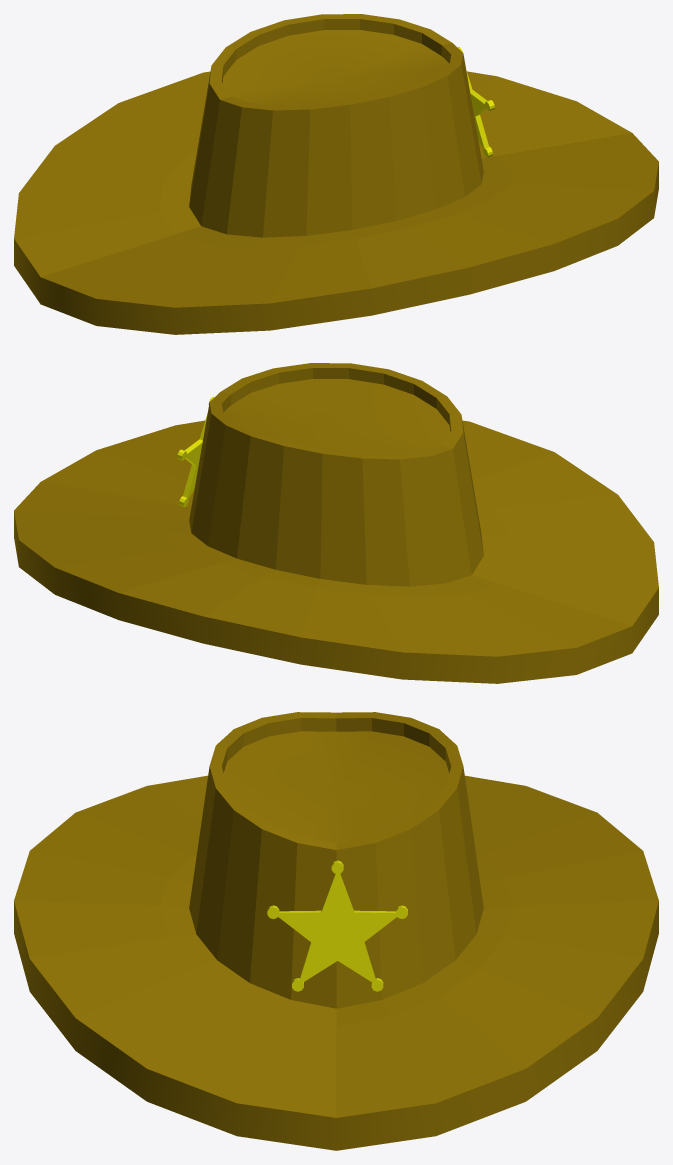
Rendered from Hat.fbx.
3 renders of one model, top to bottom at view 1: azimuth 30°, elevation 25°; view 2: azimuth 150°, elevation 25°; view 3: azimuth 270°, elevation 25°, orthographic. The views are drawn at different scales.
Parts seen in each view (by area): view 1: polySurface7; view 2: polySurface7; view 3: polySurface7.
Boxes of the visible parts, x1=… form: polySurface7: x1=14, y1=14, x2=658, y2=334; polySurface7: x1=14, y1=363, x2=658, y2=683; polySurface7: x1=14, y1=712, x2=658, y2=1150.
Bounding box in the file's own units: 3.65 × 1.02 × 2.85.
